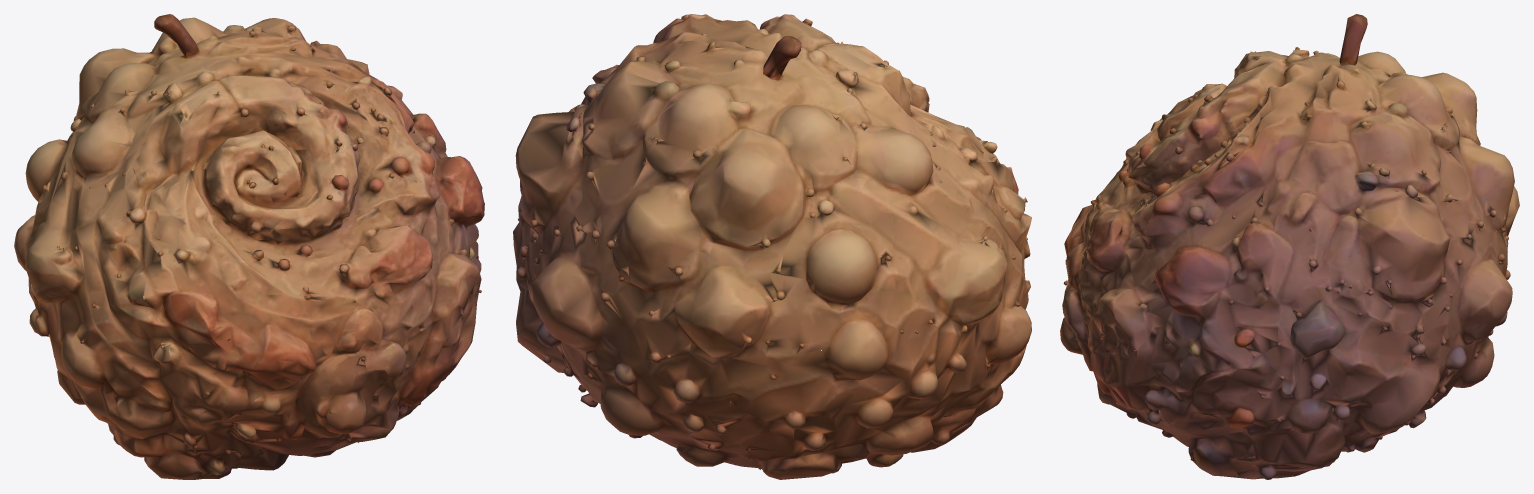
Rendered from sand_storm.glb.
3 renders of one model, left to right at view 1: azimuth 30°, elevation 25°; view 2: azimuth 150°, elevation 25°; view 3: azimuth 270°, elevation 25°, orthographic. The views are drawn at different scales.
Parts seen in each view (by area): view 1: tripo_node_7f88a746-5b6b-4fc5-8dde-f15d2b3fd441; view 2: tripo_node_7f88a746-5b6b-4fc5-8dde-f15d2b3fd441; view 3: tripo_node_7f88a746-5b6b-4fc5-8dde-f15d2b3fd441.
Part boxes in pixels (x1,y1,x2,y2): tripo_node_7f88a746-5b6b-4fc5-8dde-f15d2b3fd441: (14, 14, 484, 479); tripo_node_7f88a746-5b6b-4fc5-8dde-f15d2b3fd441: (513, 14, 1031, 479); tripo_node_7f88a746-5b6b-4fc5-8dde-f15d2b3fd441: (1060, 14, 1519, 479).
Size of the model in its own units: 0.9792 by 0.9009 by 0.9415.
1 material, 1 textured.
